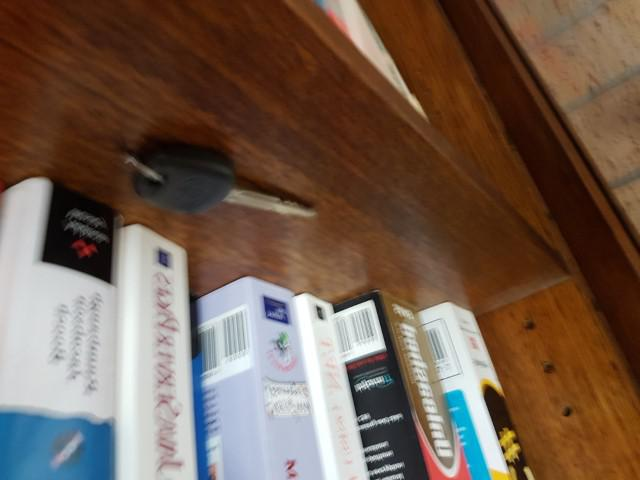key: (135, 153, 316, 219)
